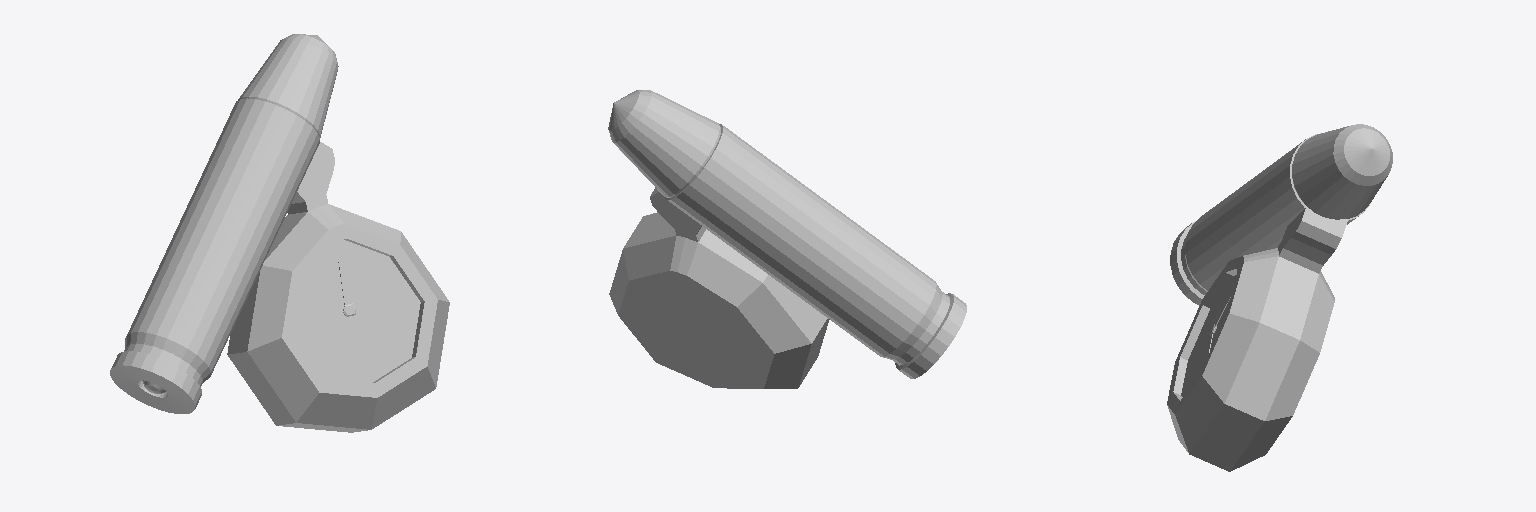
The model's file is velocidadbala.obj.
3 views of the same model, side by side, from view 1: azimuth 30°, elevation 25°; view 2: azimuth 150°, elevation 25°; view 3: azimuth 270°, elevation 25° (orthographic).
Visible parts, largest first — view 1: polySurface9; view 2: polySurface9; view 3: polySurface9.
Part boxes in pixels (x1,y1,x2,y2): polySurface9: (110, 34, 449, 432); polySurface9: (608, 90, 966, 388); polySurface9: (1167, 124, 1392, 471).
Size of the model in its own units: 1.62 by 1.59 by 0.9559.